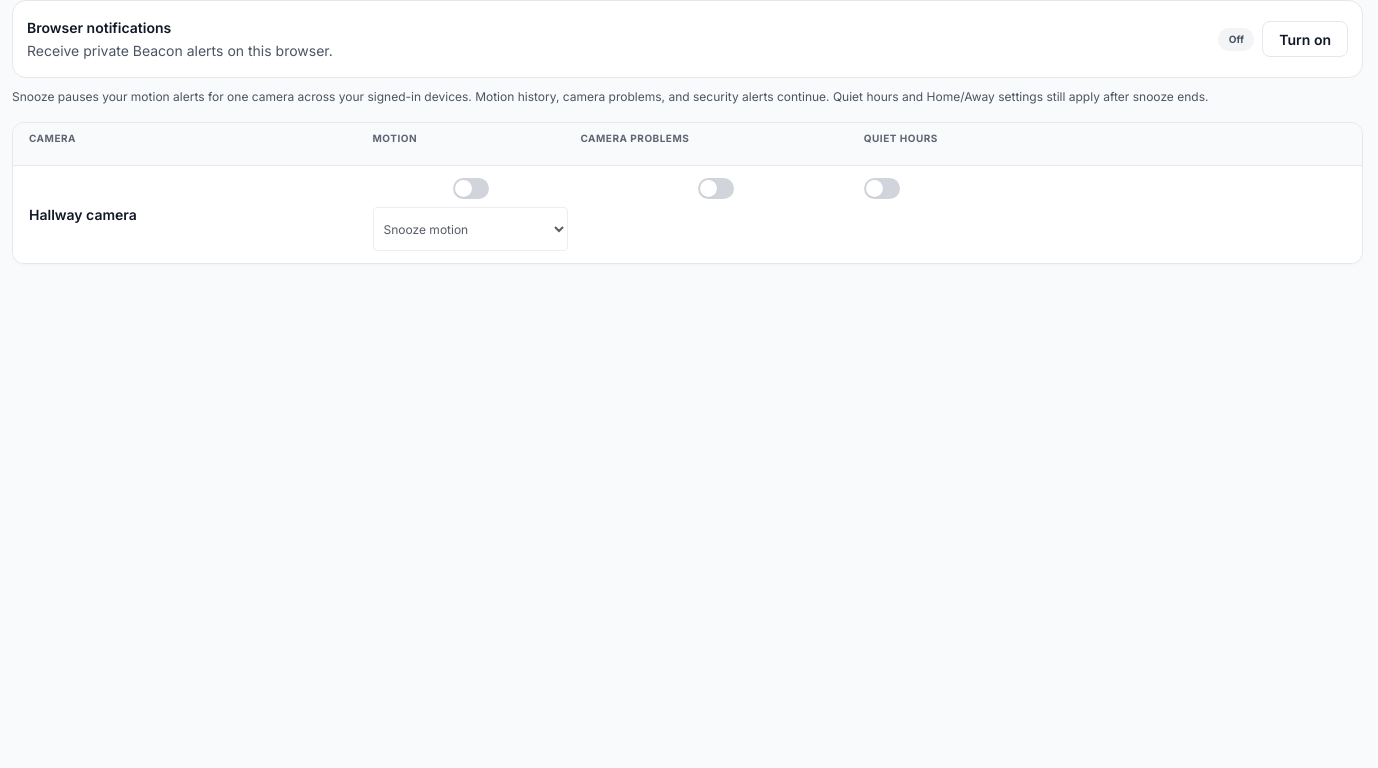
NotificationSettings › autosaves a preference change immediately, with no Save button
Click the switch named "Motion alerts for Hallway camera". click: (470, 188)
box: [452,178,488,199]
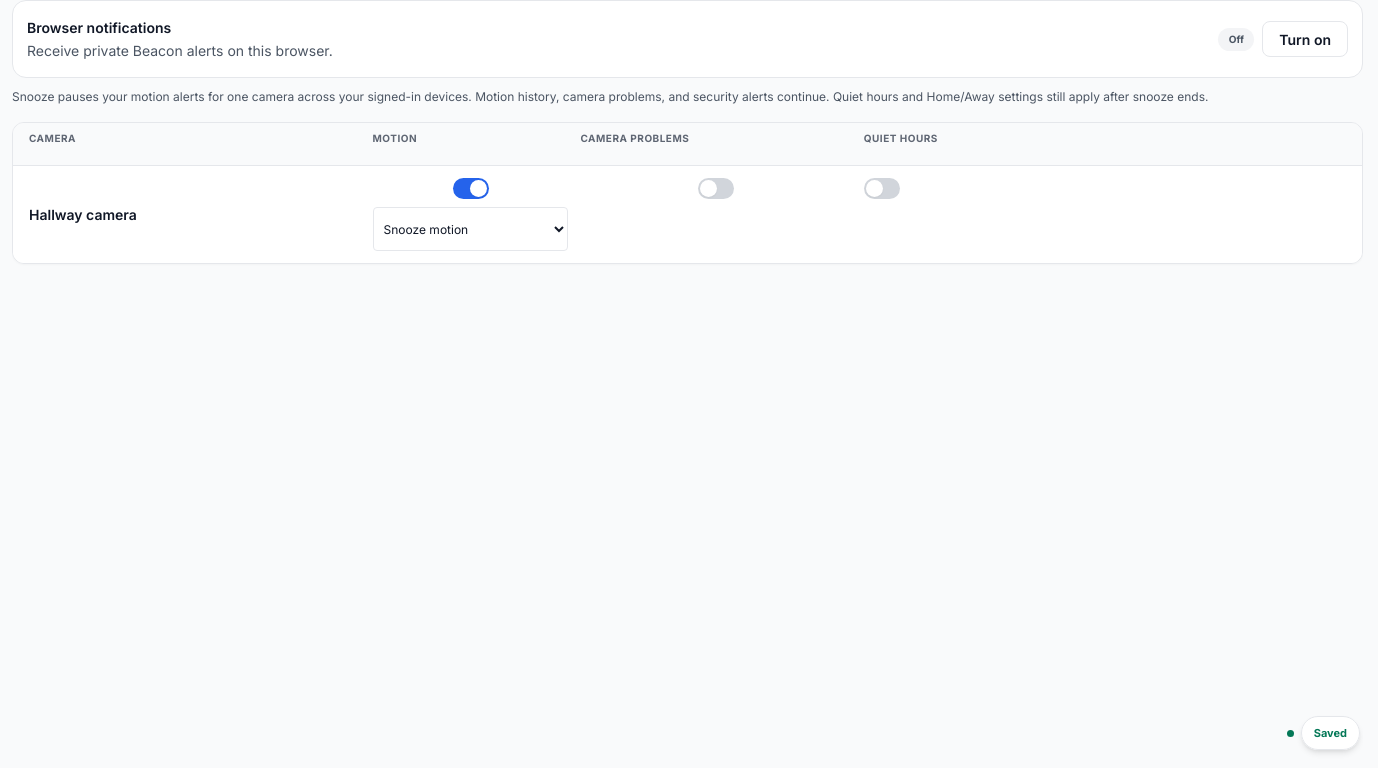
Check: the switch named "Motion alerts for Hallway camera" is checked, box [452,178,488,199]
Check: the text "Saved" is shown, box [1301,716,1360,750]
